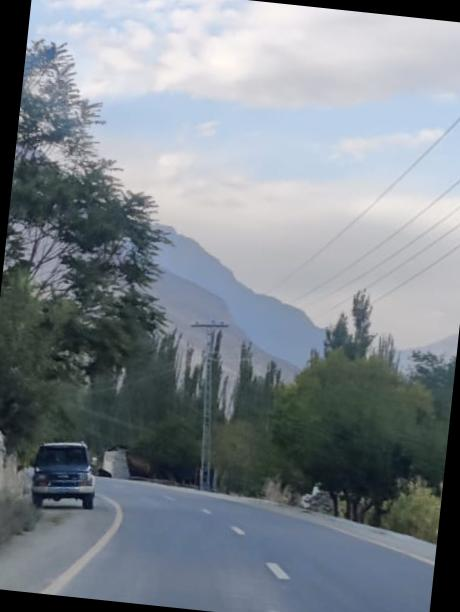left_turn: (49, 420, 266, 540)
